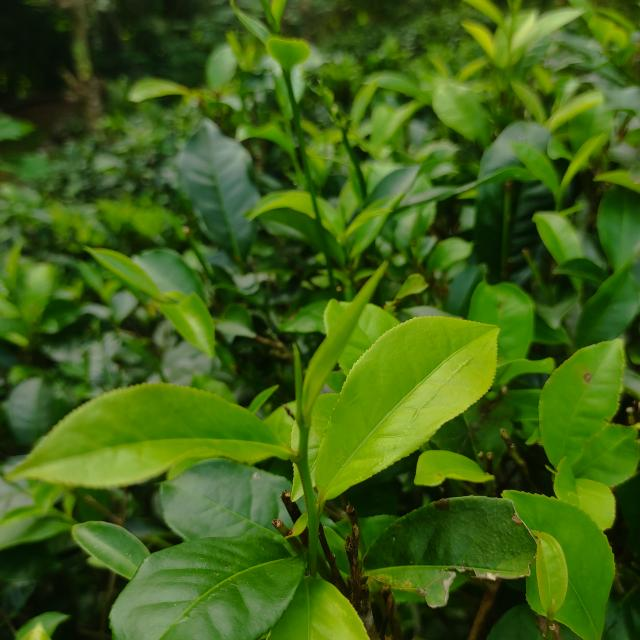unopened_leaf: (289, 337, 313, 425)
